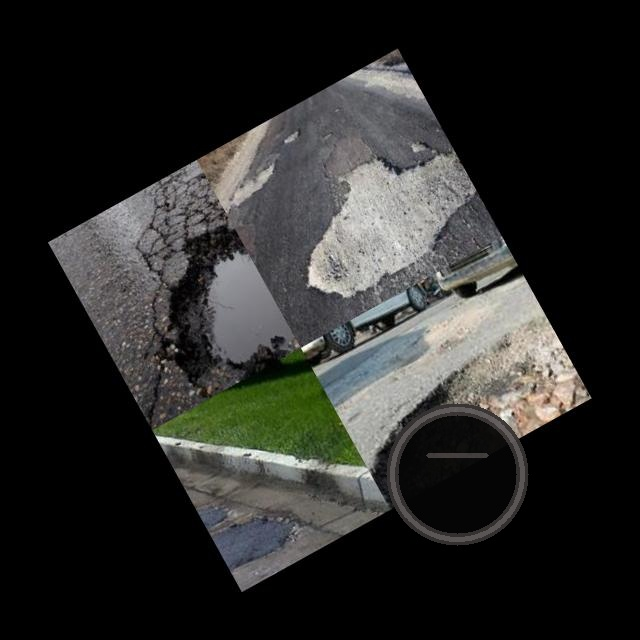open_manhole: (383, 400, 531, 548)
